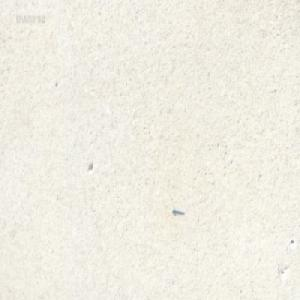Nail: (172, 208, 184, 216)
